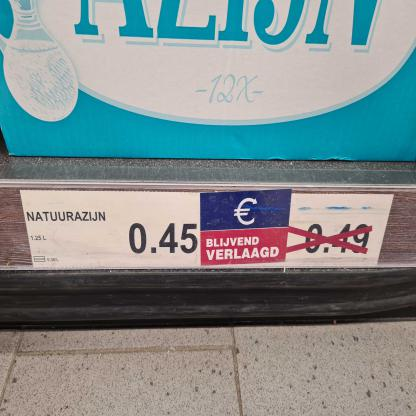prtg: (21, 192, 201, 270)
